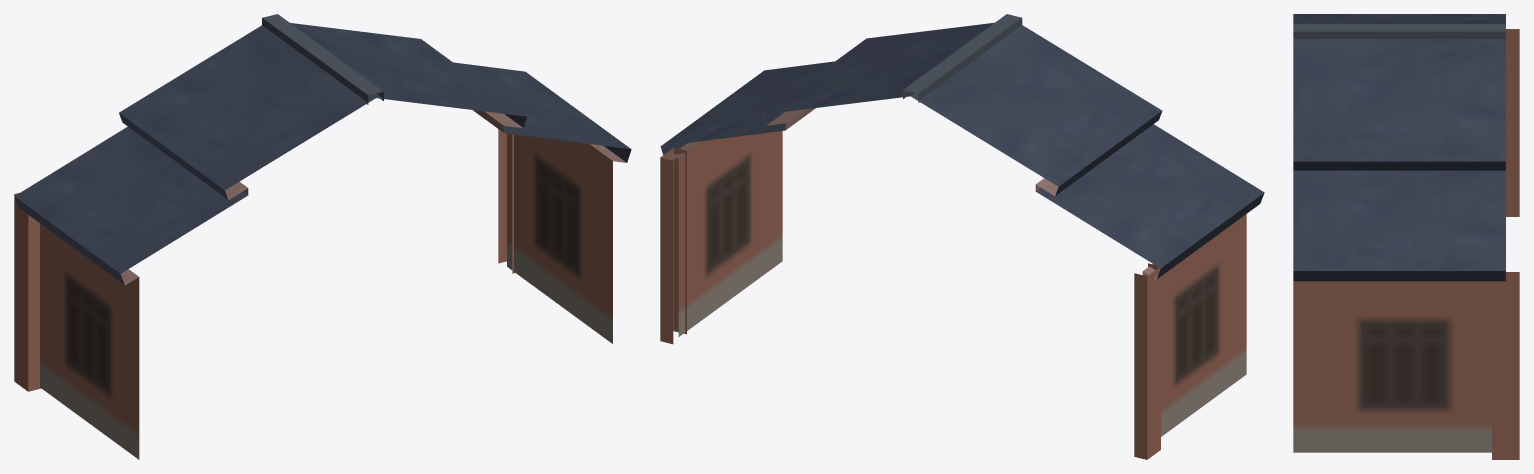
The model's file is Universal_Building_Warehouse_L2_03_Mod.fbx.
3 views of the same model, side by side, from view 1: azimuth 30°, elevation 25°; view 2: azimuth 150°, elevation 25°; view 3: azimuth 270°, elevation 25° (orthographic). The views are drawn at different scales.
Visible parts, largest first — view 1: Universal_Building_Warehouse_L2_03_Mod; view 2: Universal_Building_Warehouse_L2_03_Mod; view 3: Universal_Building_Warehouse_L2_03_Mod.
Boxes of the visible parts, left/top/right/bottom form: Universal_Building_Warehouse_L2_03_Mod: left=14, top=14, right=631, bottom=459; Universal_Building_Warehouse_L2_03_Mod: left=660, top=14, right=1264, bottom=459; Universal_Building_Warehouse_L2_03_Mod: left=1293, top=14, right=1519, bottom=459.
Size of the model in its own units: 1112 by 645 by 426.
